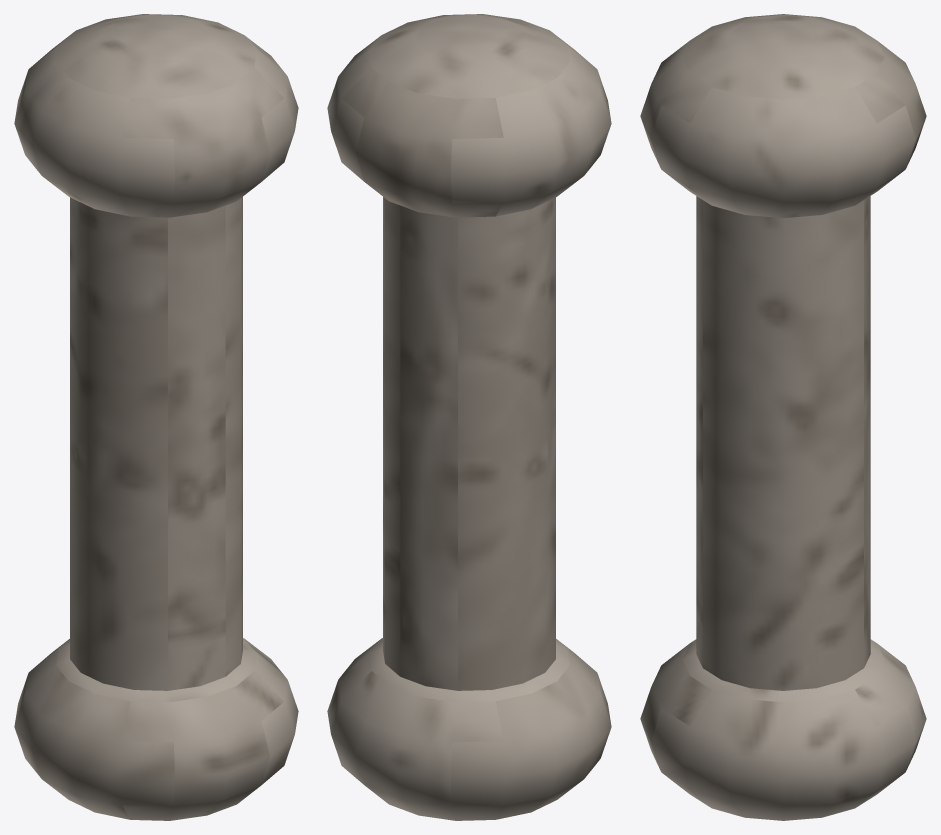
The model's file is MeshDoorwayHandle_2_1.obj.
The picture shows the model from 3 angles, left to right: view 1: azimuth 30°, elevation 25°; view 2: azimuth 150°, elevation 25°; view 3: azimuth 270°, elevation 25°; orthographic projection.
Parts seen in each view (by area): view 1: DoorwayHandle_2; view 2: DoorwayHandle_2; view 3: DoorwayHandle_2.
Boxes of the visible parts, bbox=[...] form: DoorwayHandle_2: bbox=[14, 14, 298, 820]; DoorwayHandle_2: bbox=[327, 14, 611, 820]; DoorwayHandle_2: bbox=[640, 14, 926, 820].
Bounding box in the file's own units: 0.044 × 0.1305 × 0.044.
Materials: 1 (1 with a texture image).
